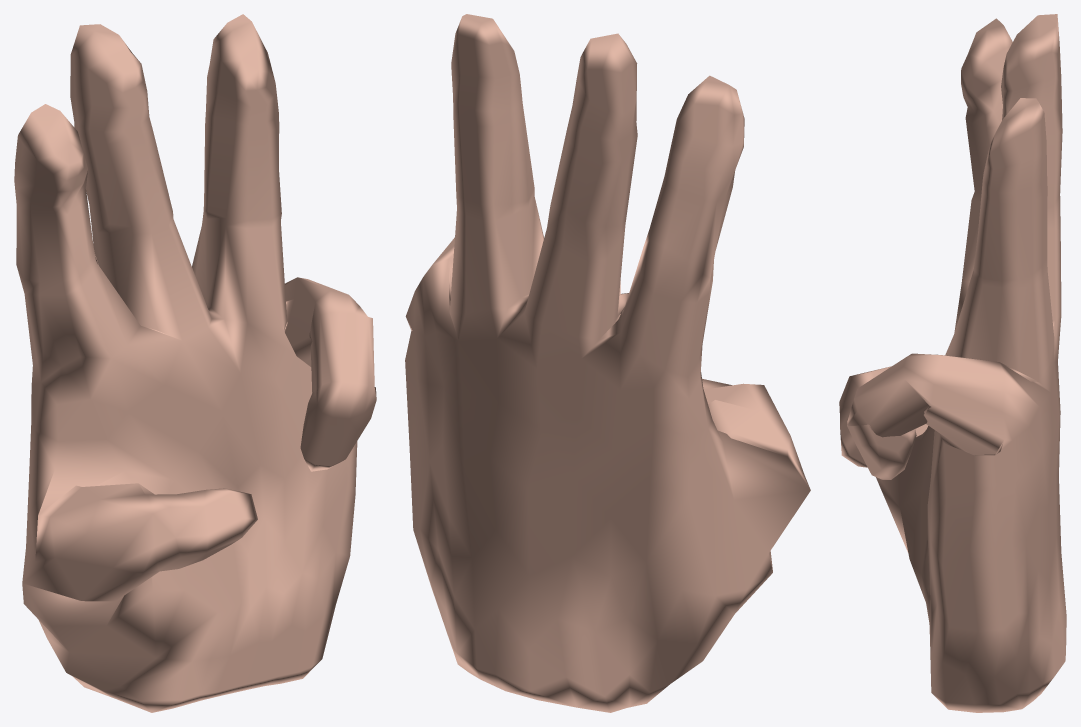
Rendered from MAO_W.obj.
The picture shows the model from 3 angles, left to right: view 1: azimuth 30°, elevation 25°; view 2: azimuth 150°, elevation 25°; view 3: azimuth 270°, elevation 25°; orthographic projection. The views are drawn at different scales.
Parts seen in each view (by area): view 1: mao_dir polySurface1; view 2: mao_dir polySurface1; view 3: mao_dir polySurface1.
Boxes of the visible parts, x1,y1,x2,y2 form: mao_dir polySurface1: (14,14,376,712); mao_dir polySurface1: (405,14,810,712); mao_dir polySurface1: (839,14,1066,712).
Bounding box in the file's own units: 135 × 241 × 80.04.
